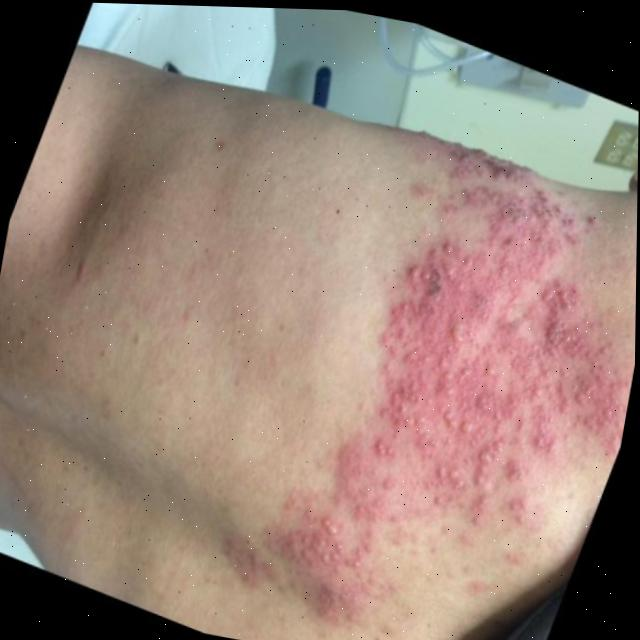Shingles: (252, 110, 638, 637)
